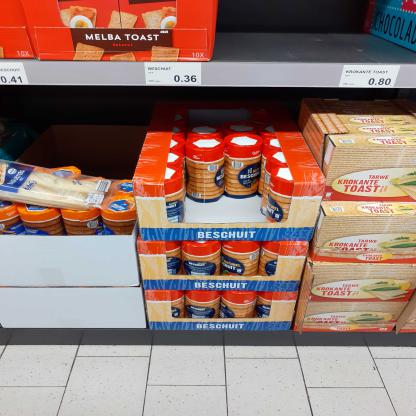prtg: (339, 66, 403, 89), (145, 63, 203, 87), (1, 64, 31, 86)
